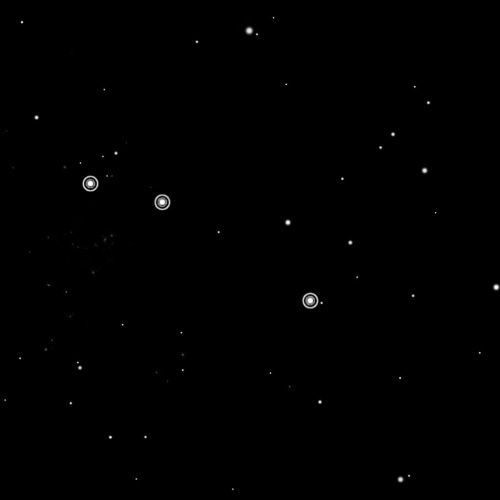vulpecula: (78, 167, 325, 315)
